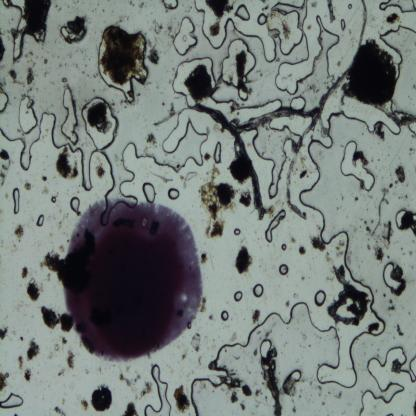Air bubble: (191, 302, 416, 415), (298, 110, 360, 286), (78, 95, 146, 220), (136, 54, 207, 171), (191, 2, 265, 63), (0, 108, 62, 173), (376, 27, 416, 121), (299, 14, 340, 100), (264, 2, 311, 72), (339, 139, 374, 191), (2, 0, 27, 63), (146, 363, 172, 415), (209, 61, 237, 104), (171, 16, 198, 56), (62, 86, 79, 146), (16, 94, 39, 134), (264, 209, 285, 242), (378, 0, 416, 16), (382, 259, 401, 291), (0, 391, 24, 409), (142, 182, 156, 204), (258, 338, 272, 360), (235, 3, 250, 21), (290, 96, 307, 111), (12, 187, 21, 215), (68, 196, 80, 215), (314, 289, 326, 307), (0, 91, 9, 114), (289, 367, 302, 382), (214, 140, 222, 164), (162, 0, 179, 11), (394, 208, 404, 225), (278, 263, 290, 277), (168, 186, 180, 200), (237, 89, 249, 102), (253, 283, 264, 297), (36, 213, 46, 228), (257, 12, 267, 25), (220, 309, 230, 322), (233, 290, 243, 302), (340, 18, 346, 32), (234, 228, 242, 236), (280, 242, 287, 251), (50, 196, 56, 204), (347, 4, 353, 10)
Background material: (338, 35, 404, 110), (102, 24, 148, 81), (201, 166, 238, 214), (23, 0, 53, 42), (183, 63, 214, 101), (41, 249, 67, 287), (375, 105, 416, 128), (38, 304, 72, 331), (60, 16, 89, 46), (233, 50, 252, 94), (86, 102, 112, 134), (57, 147, 79, 180), (233, 244, 254, 276), (152, 101, 176, 127), (90, 384, 112, 412), (230, 155, 250, 184), (172, 383, 190, 414), (205, 0, 235, 18), (219, 369, 242, 392), (0, 146, 11, 188), (25, 336, 40, 363), (204, 218, 224, 238), (381, 222, 395, 248), (180, 169, 198, 189), (296, 153, 310, 178), (401, 213, 416, 236), (27, 278, 41, 302), (352, 150, 370, 168), (282, 376, 297, 396), (326, 1, 337, 26), (139, 379, 153, 398), (148, 47, 161, 67), (310, 237, 326, 253), (334, 238, 345, 261), (64, 349, 75, 372), (190, 331, 202, 352), (94, 161, 107, 180), (123, 402, 140, 416), (238, 192, 252, 209), (146, 132, 159, 150), (0, 368, 9, 393), (12, 224, 24, 242), (118, 373, 132, 388), (385, 12, 401, 25), (364, 320, 380, 333), (394, 166, 406, 183), (251, 307, 262, 325), (391, 357, 401, 375), (6, 68, 18, 83), (210, 21, 221, 37), (78, 396, 89, 411), (27, 67, 35, 87), (0, 37, 6, 63), (153, 20, 164, 34), (7, 27, 21, 38), (0, 325, 10, 340), (394, 322, 404, 337), (375, 245, 384, 261), (23, 367, 32, 383), (376, 124, 384, 142), (200, 251, 209, 266), (387, 297, 396, 312), (18, 266, 29, 278), (207, 360, 218, 372), (17, 354, 24, 372), (242, 383, 251, 397), (321, 124, 329, 138), (54, 405, 65, 415), (297, 245, 307, 256), (254, 387, 263, 399), (230, 390, 238, 403), (132, 374, 141, 384), (23, 182, 32, 191), (40, 173, 48, 183), (56, 368, 66, 376), (203, 152, 211, 162), (138, 1, 146, 10), (230, 332, 237, 342), (292, 292, 300, 300), (366, 242, 372, 252), (208, 313, 215, 321), (62, 335, 67, 345), (388, 181, 394, 189), (240, 402, 245, 411), (365, 227, 372, 233), (285, 300, 290, 307)
Cellulose filter fibre: (284, 0, 367, 219), (190, 104, 265, 220), (326, 262, 372, 328), (36, 198, 78, 262), (233, 104, 318, 130), (258, 352, 282, 415), (372, 186, 389, 240)
Microfibre: (150, 169, 175, 184)
Pen: (66, 204, 202, 363)
